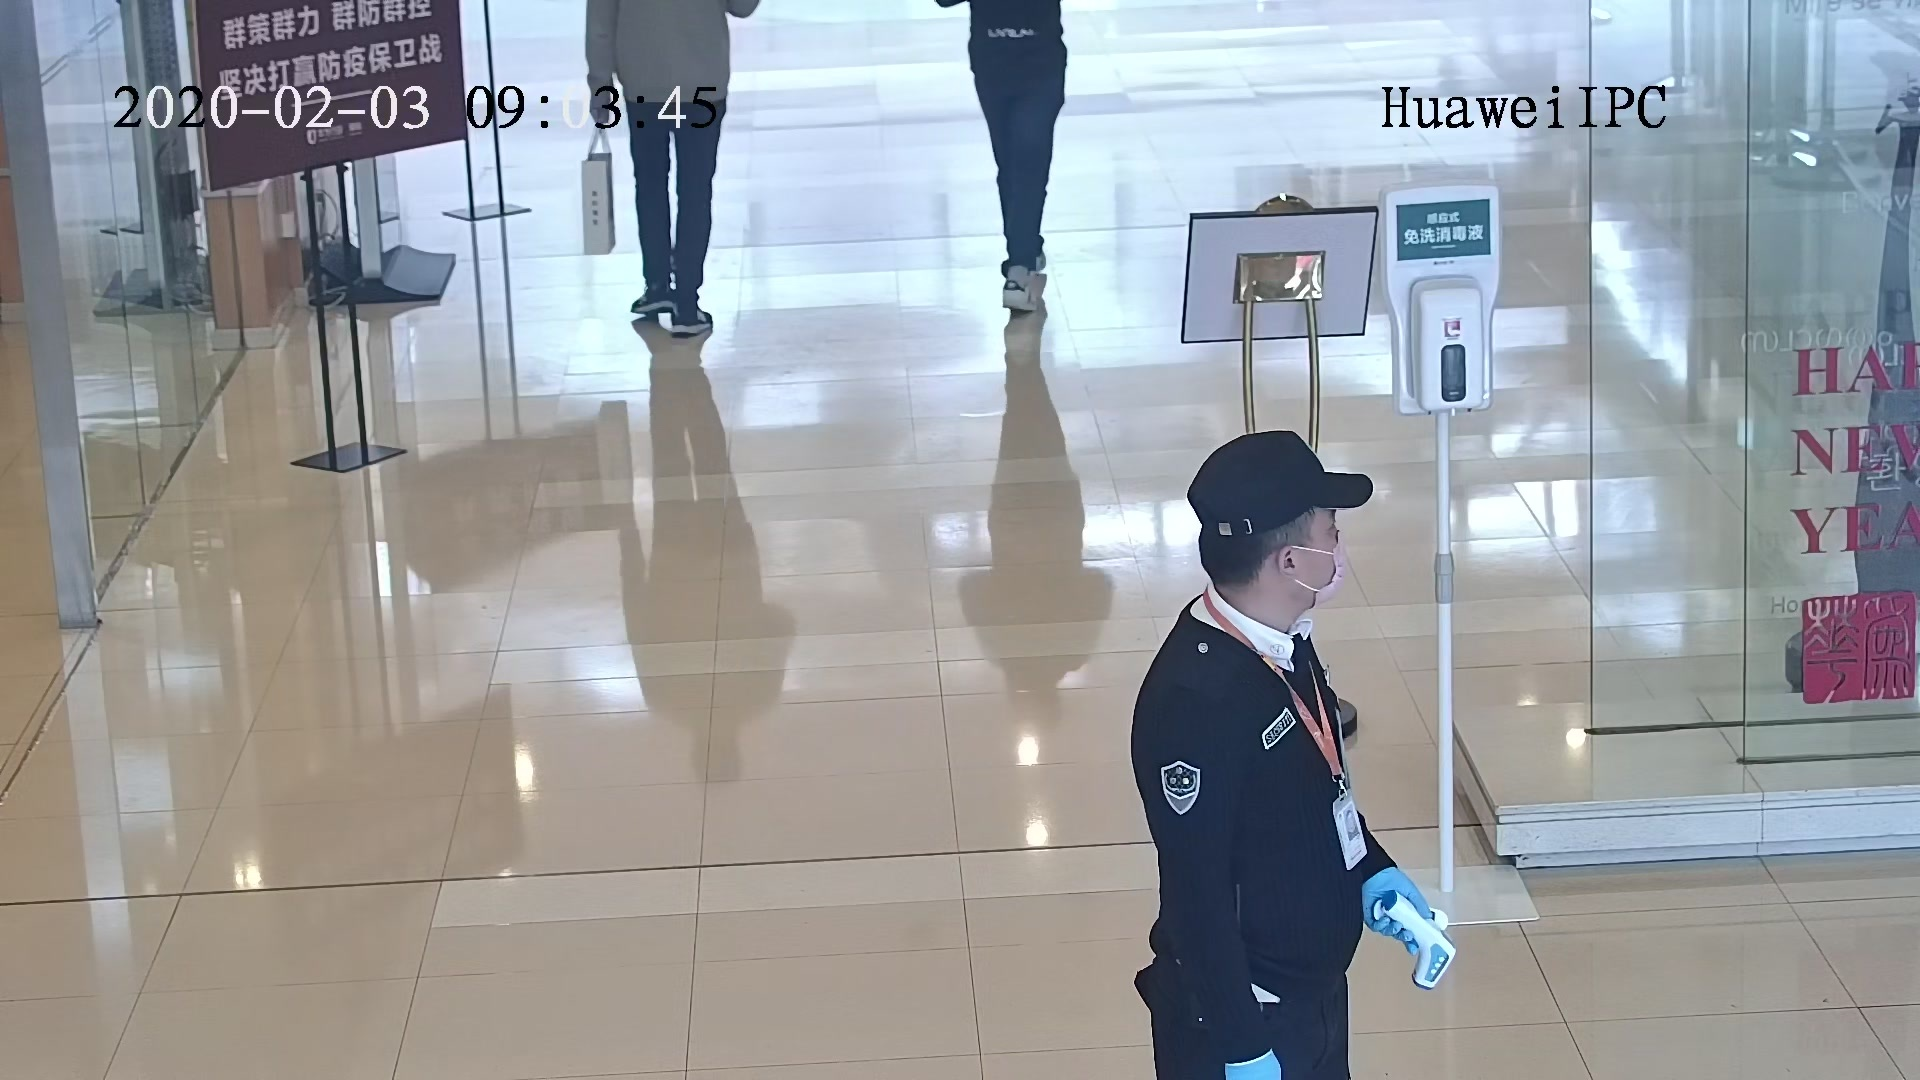face: (1302, 515, 1349, 615)
person: (1120, 426, 1367, 770)
